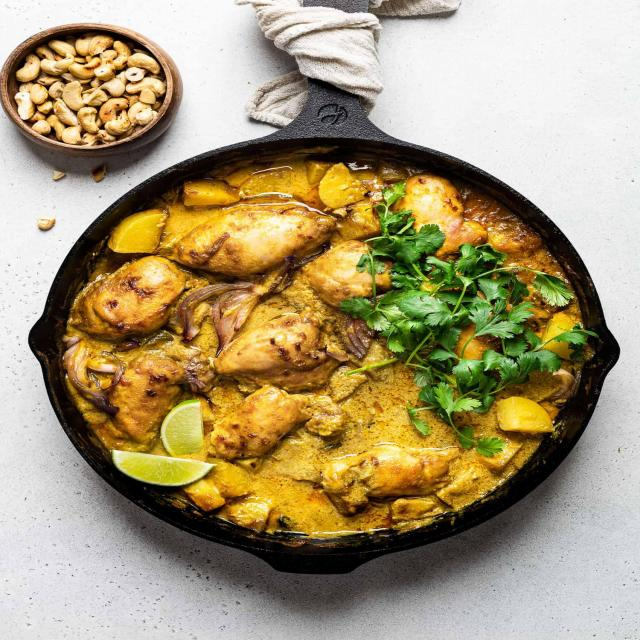chicken: (105, 192, 561, 530)
